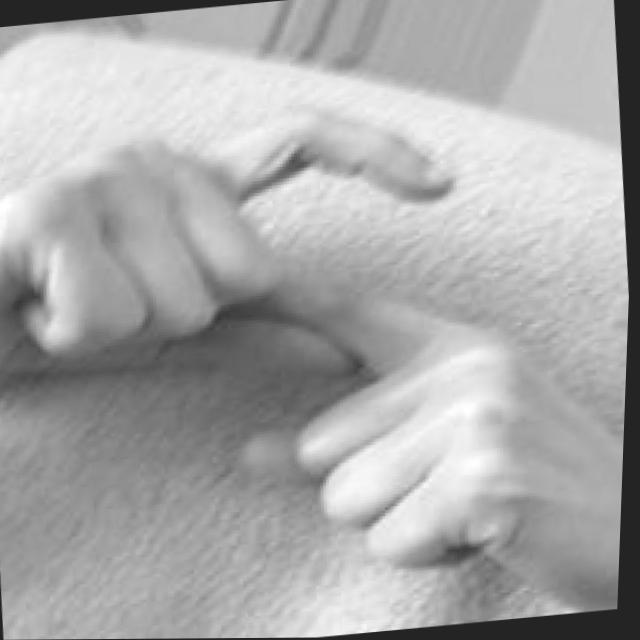S: (0, 67, 637, 640)
